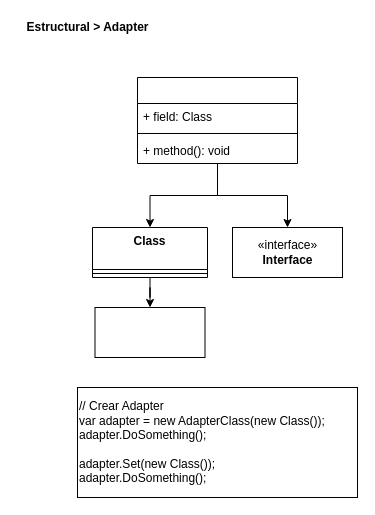
This 375x515 diagram has some shape labels left out. Each missing label, with the box of its shape:
AdapterClass : Interface: (136, 76, 298, 164)
Enum: (94, 306, 205, 358)
